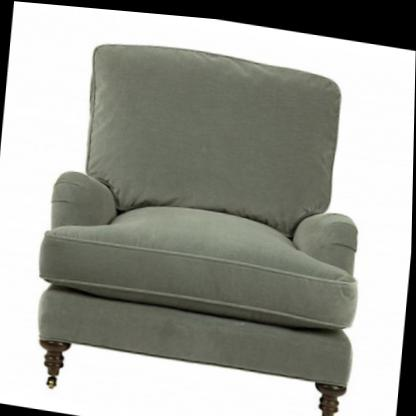Sofa: (27, 21, 383, 416)
